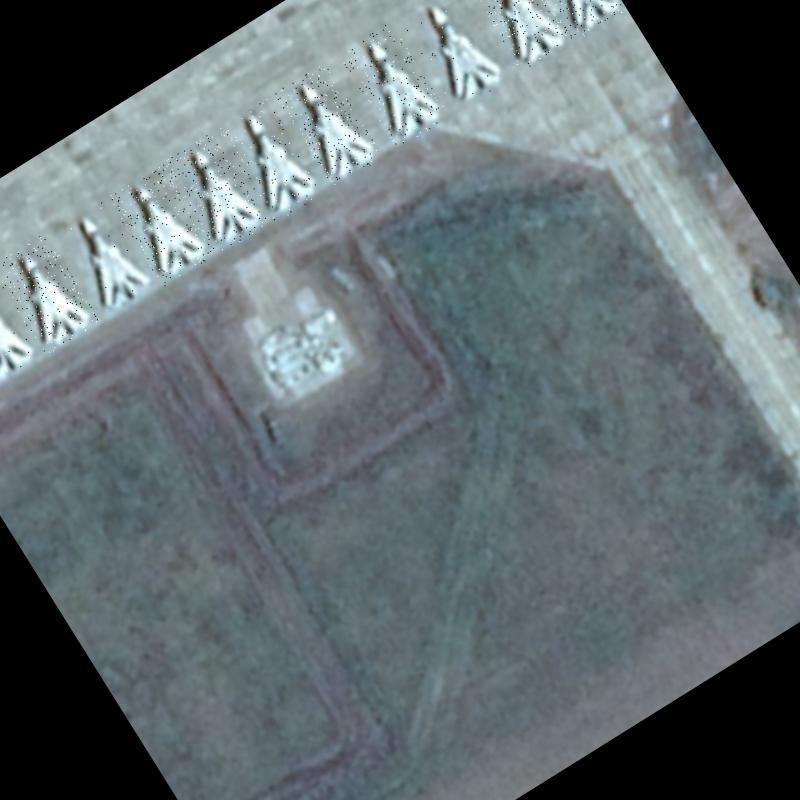A20: (338, 21, 450, 149), (216, 97, 326, 224), (274, 62, 384, 188), (160, 132, 270, 256), (108, 163, 217, 288), (399, 0, 510, 113), (0, 232, 101, 356), (53, 199, 158, 318), (463, 0, 574, 72), (0, 266, 45, 391), (518, 0, 626, 39)
